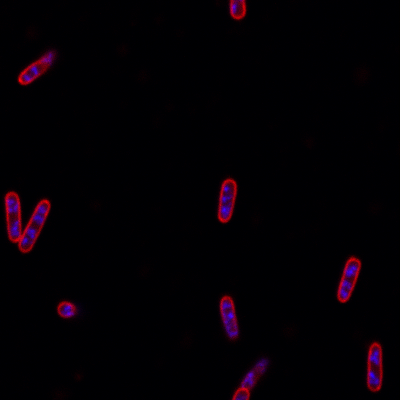Control: (17, 197, 54, 253), (335, 254, 362, 303), (3, 190, 24, 244), (364, 340, 385, 393), (216, 177, 238, 225)
Oblique: (17, 47, 57, 88), (216, 292, 241, 343), (57, 299, 80, 320)
